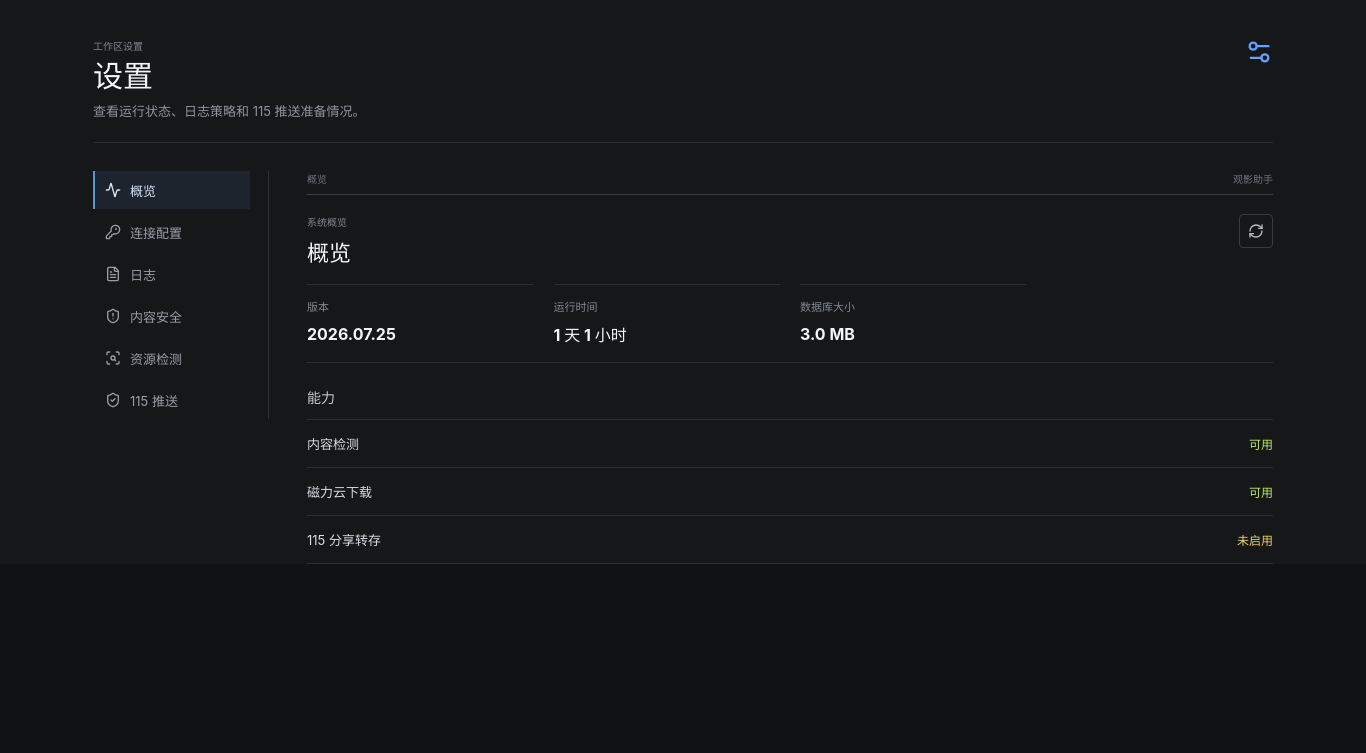
Test case: SettingsView › invalidates an older category request before applying its response
The width and height of the screenshot is (1366, 753).
Click the button "日志" at (172, 274), box [93,255,250,293]
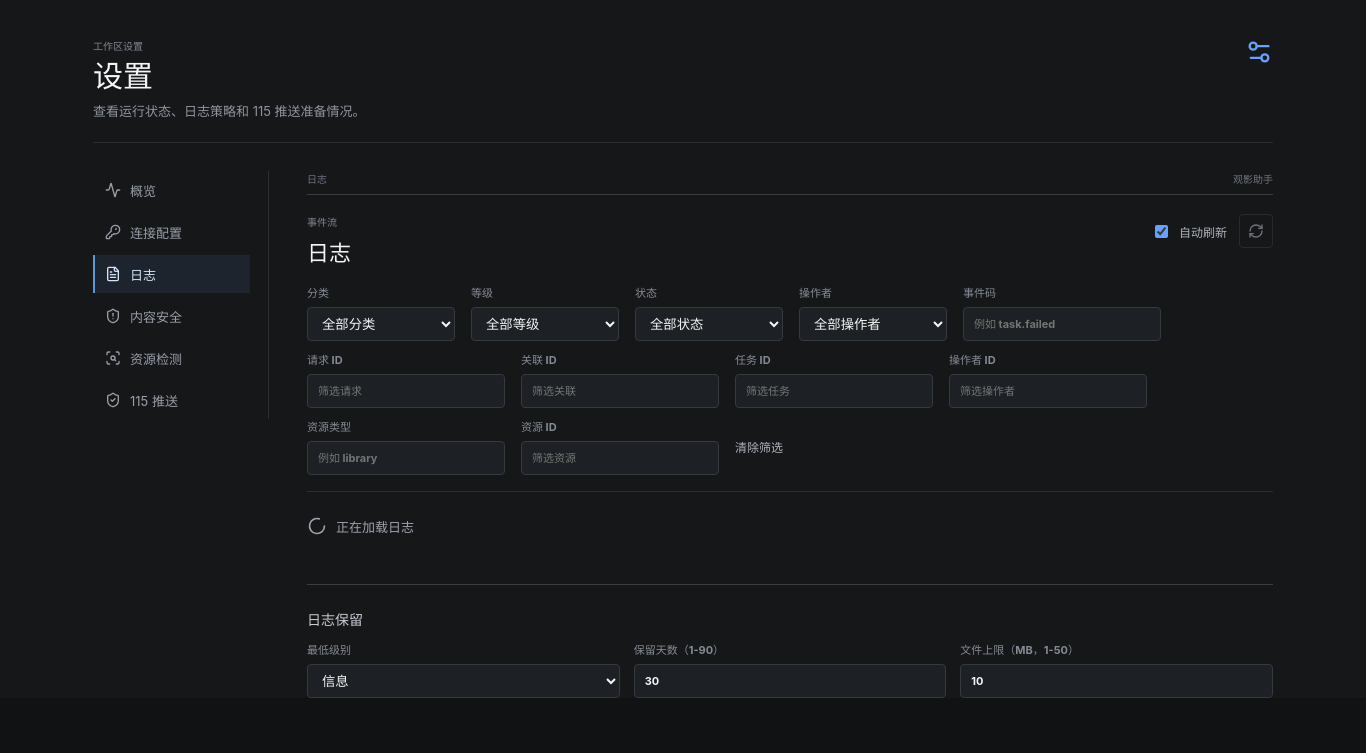
Select "搜索" in the dropdown labelled "分类" at (381, 324), box [307,307,455,341]
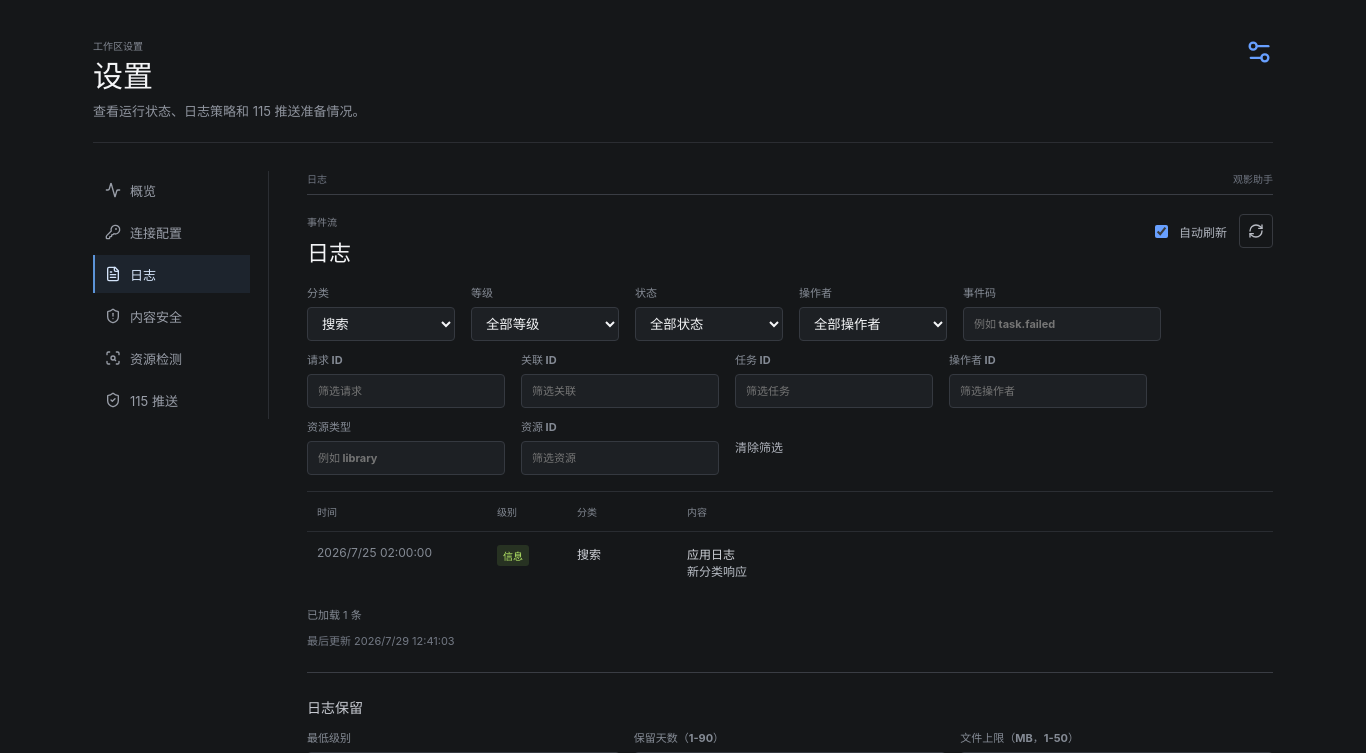
Expected: the text "新分类响应" is shown, [687,564,747,579]
